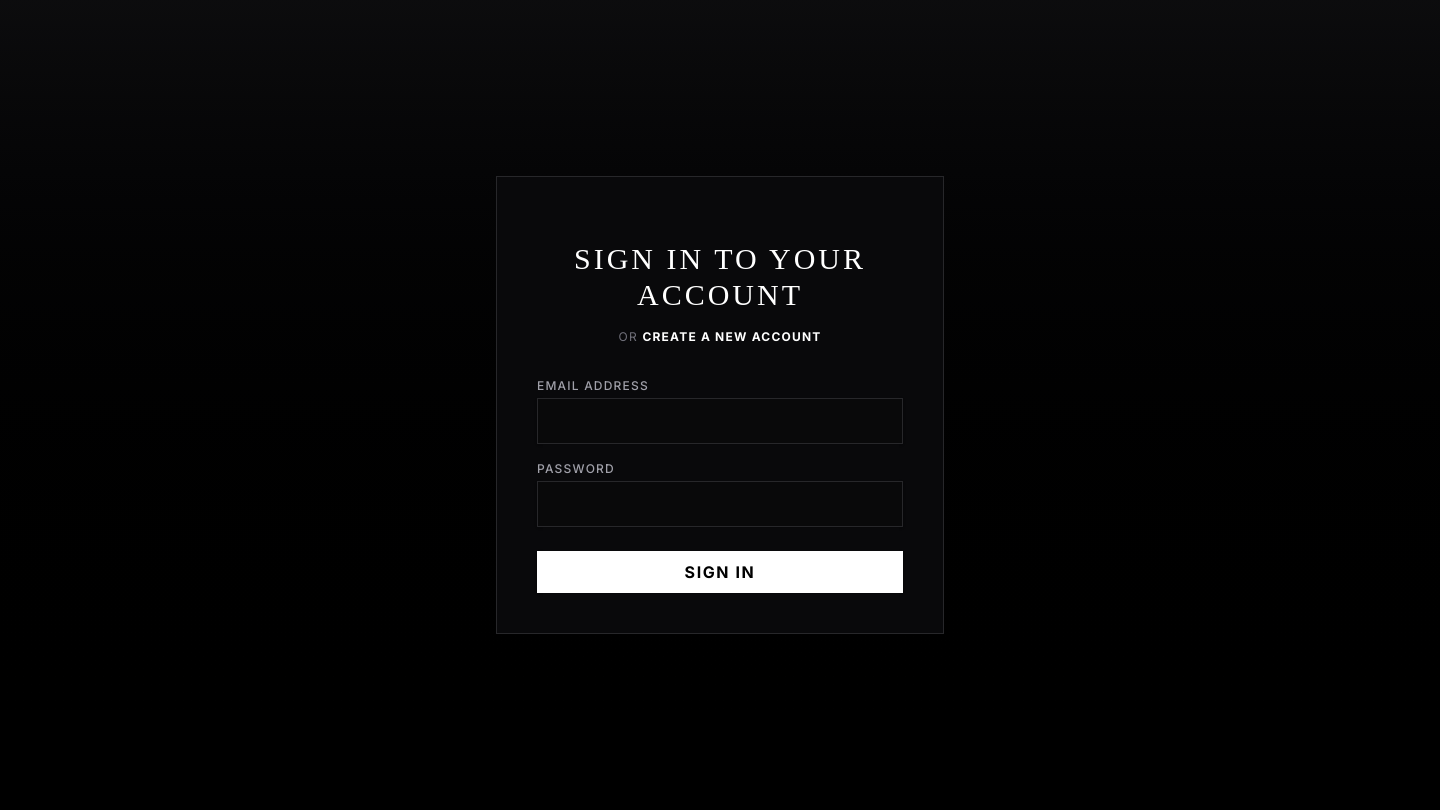
LoginPage › displays server error on 401 invalid credentials
Type "wrong@email.com" into the field labelled "Email address" at (720,421), box [537,398,903,444]
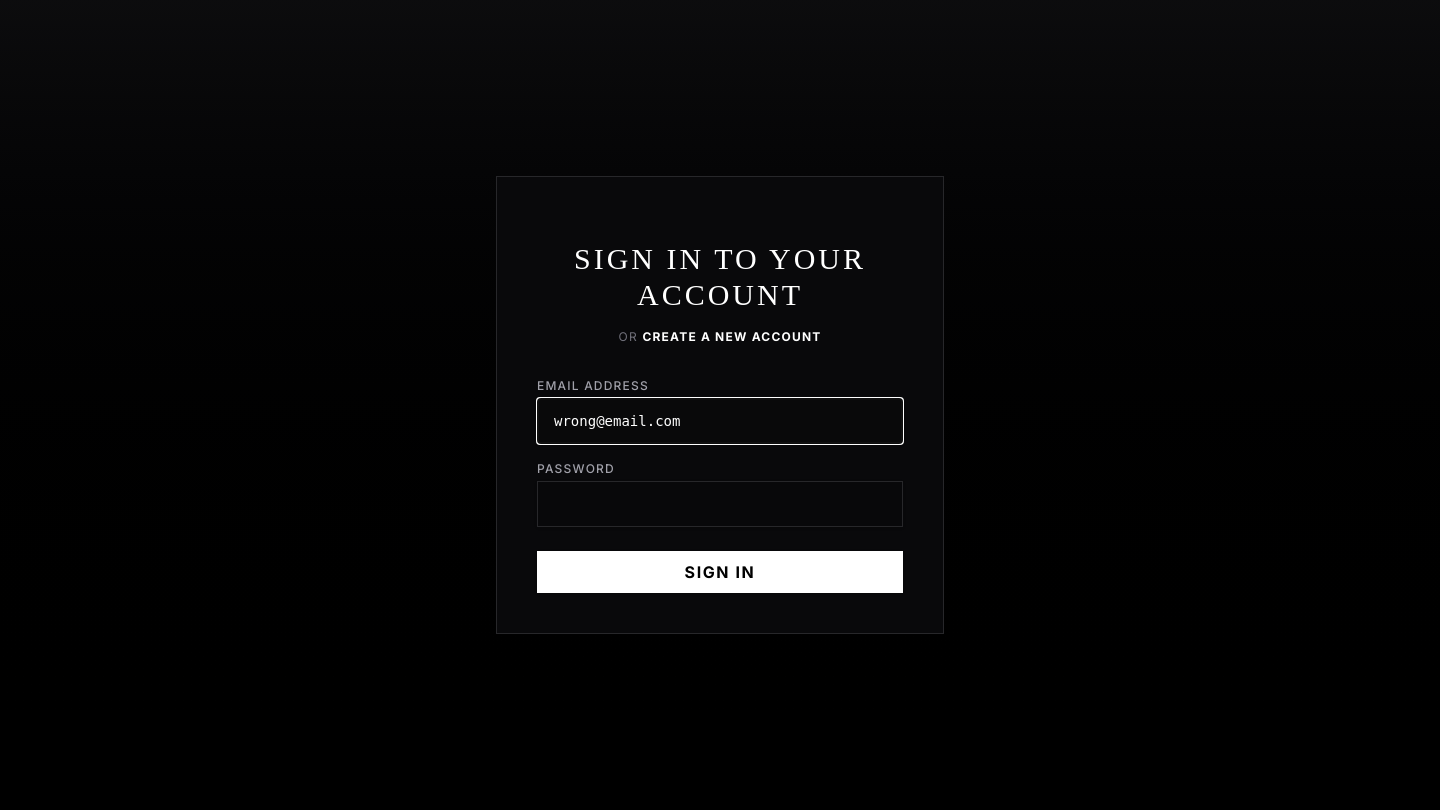
Type "wrongpass" into the password field labelled "Password" at (720,504), box [537,481,903,527]
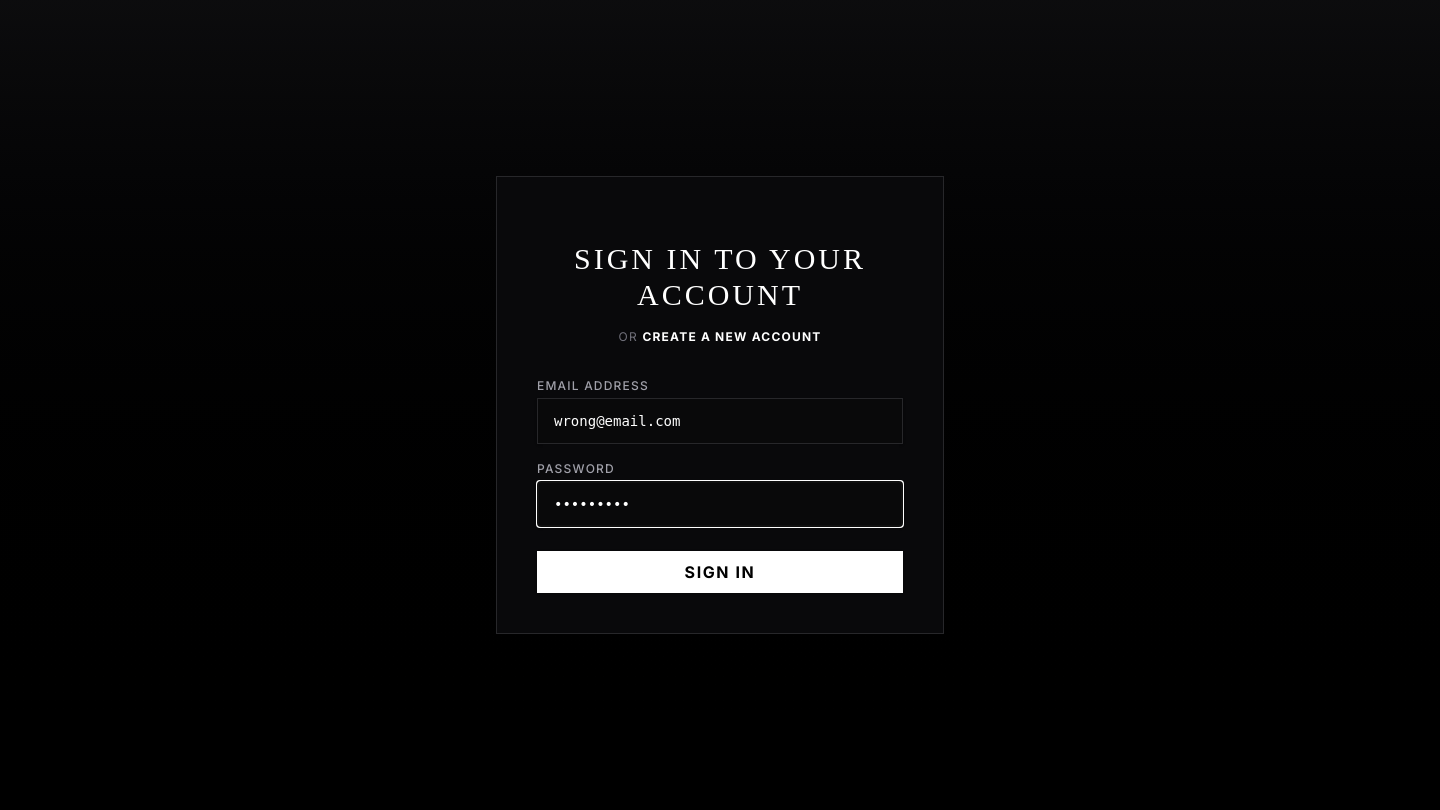
Click the button "Sign in" at (720,572), box [537,551,903,593]
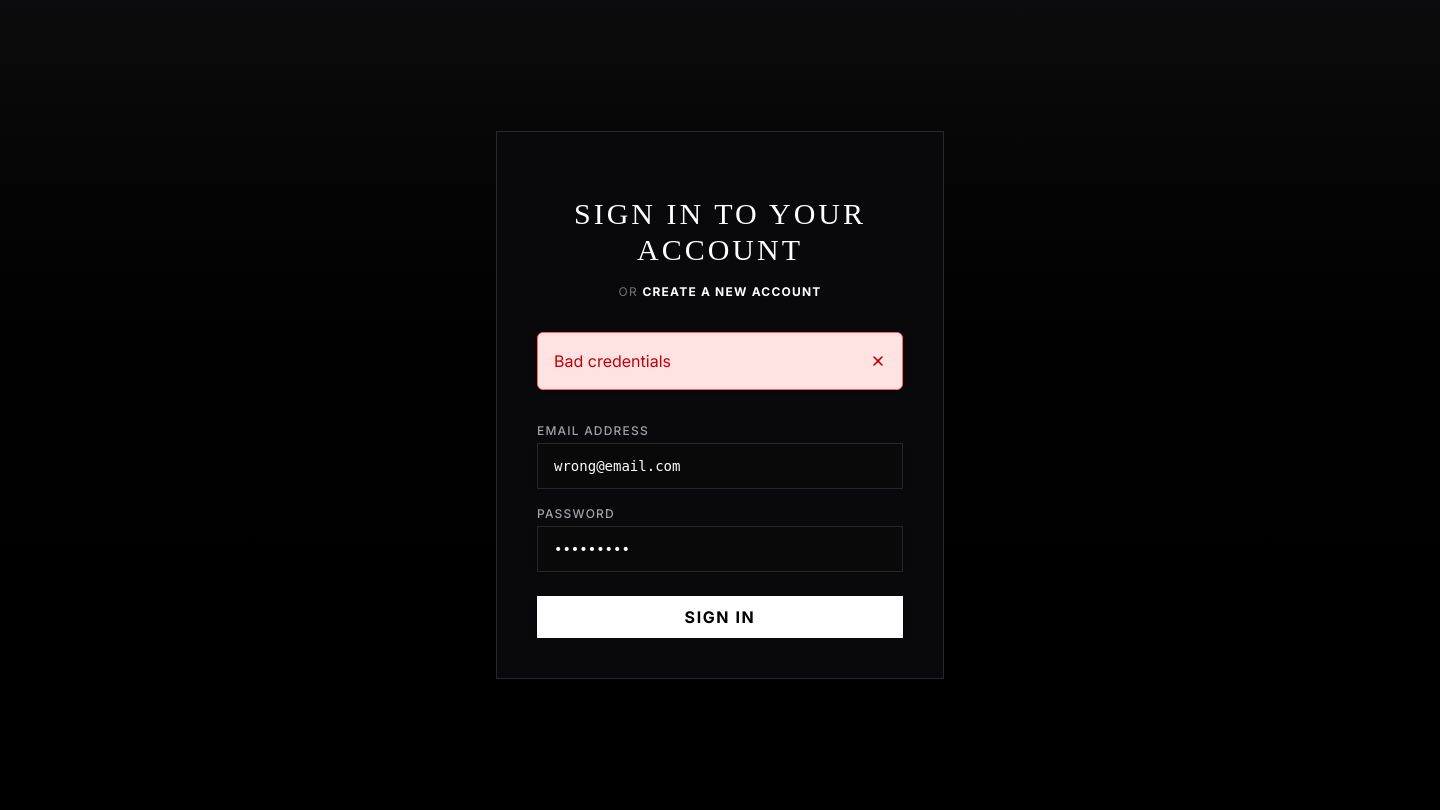
Expected: the text "Bad credentials" is shown, [554,349,671,373]
